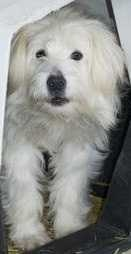Dog: (3, 1, 128, 232)
